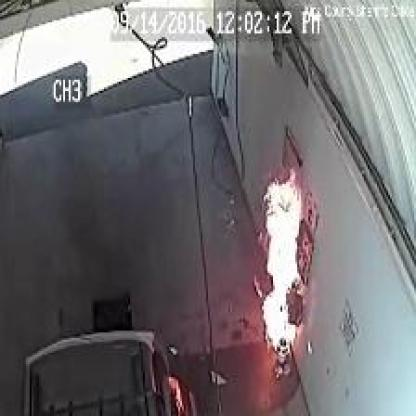fire: (247, 162, 310, 360)
